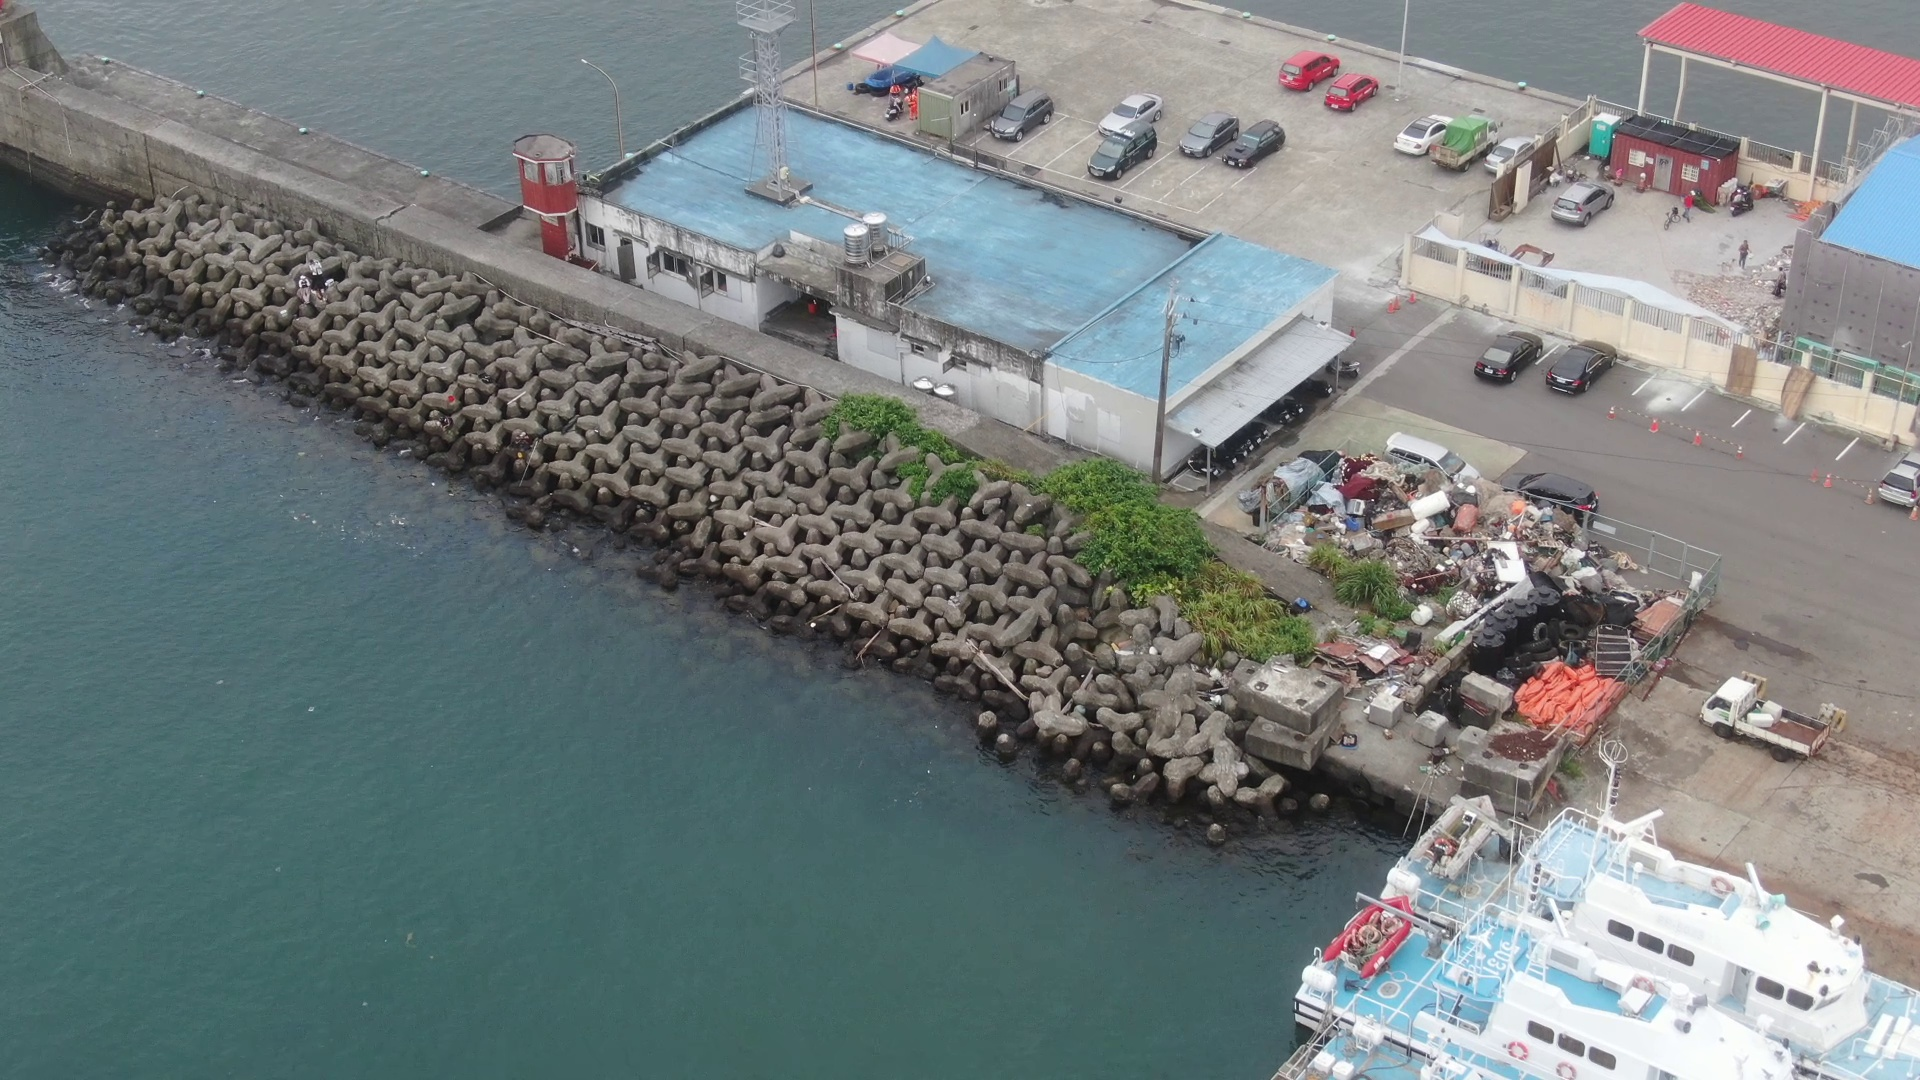garbage: (1262, 442, 1658, 738), (286, 249, 363, 302)
